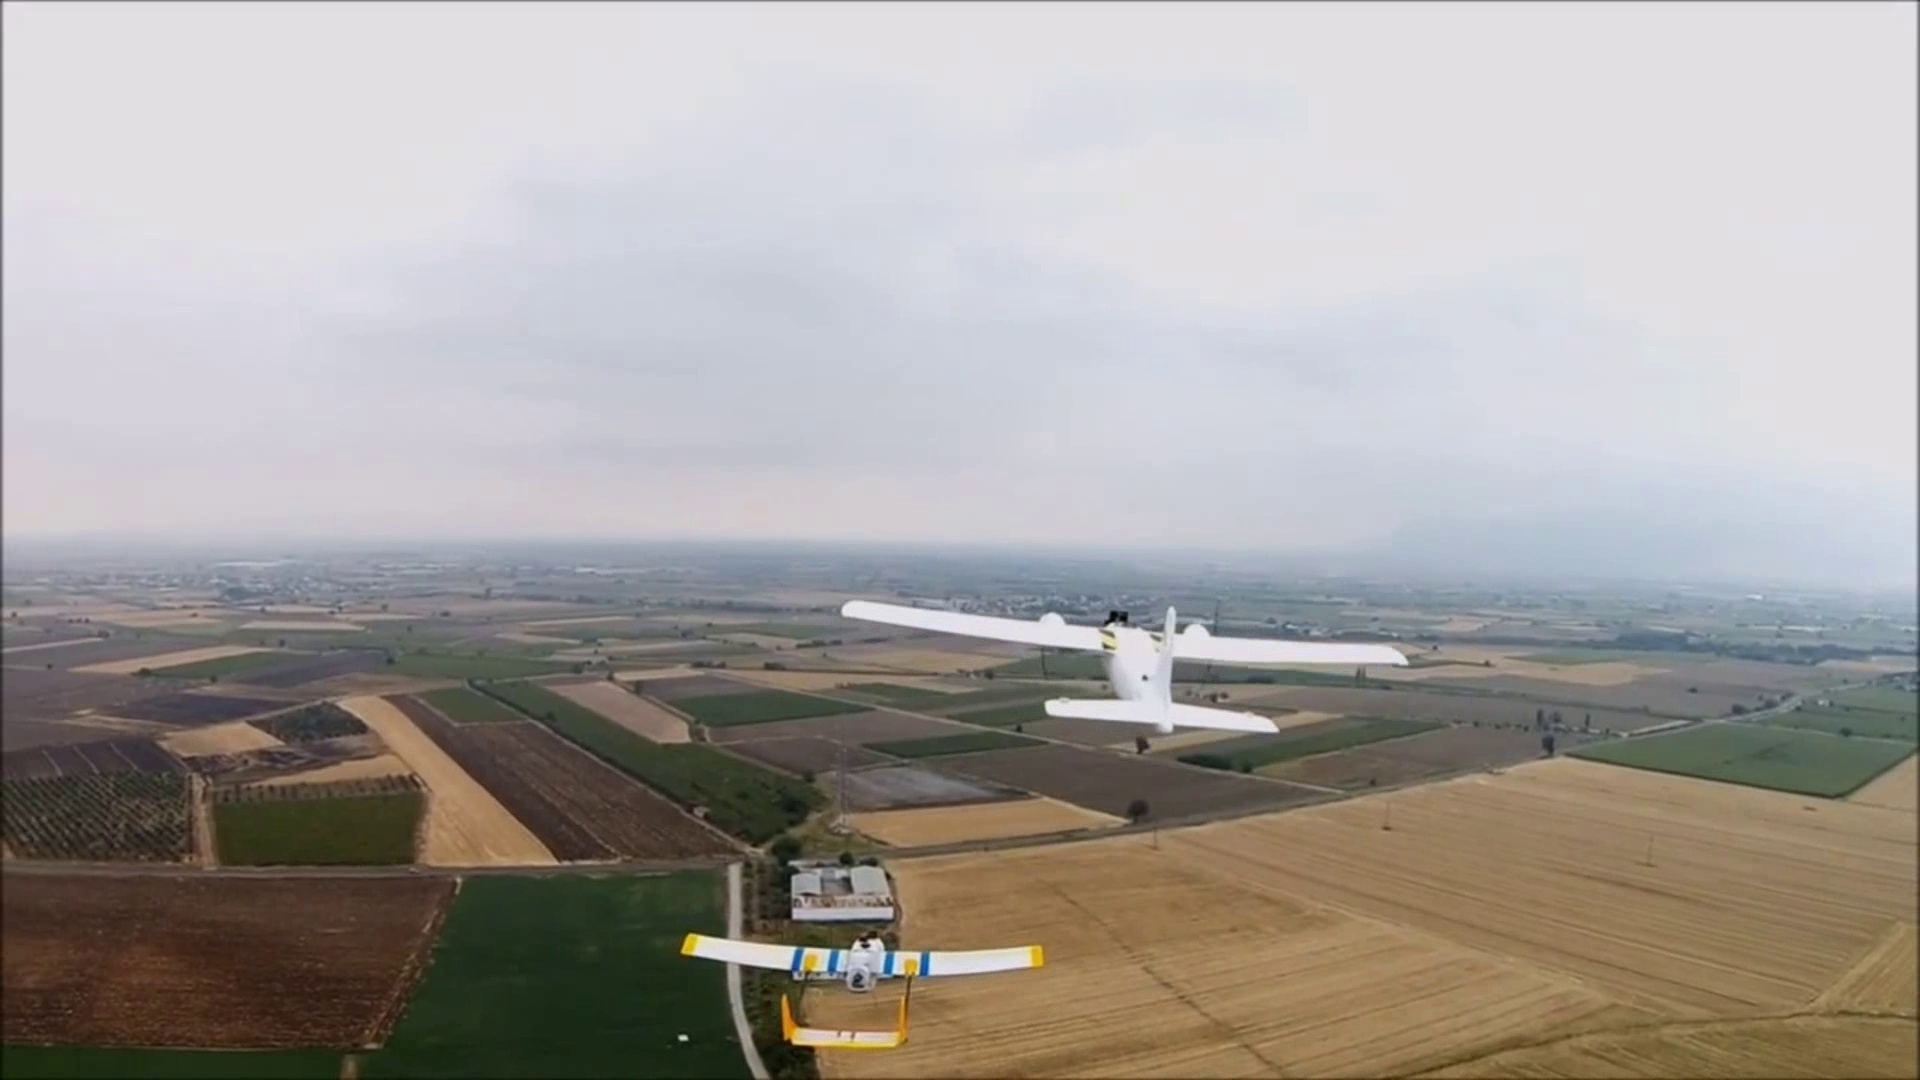airplane: (839, 587, 1415, 746)
